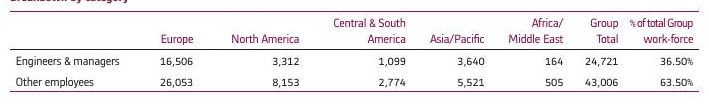table: (0, 0, 709, 104)
